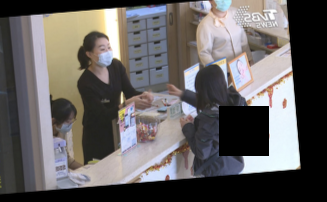with_mask: (92, 42, 113, 68), (54, 115, 76, 134)
